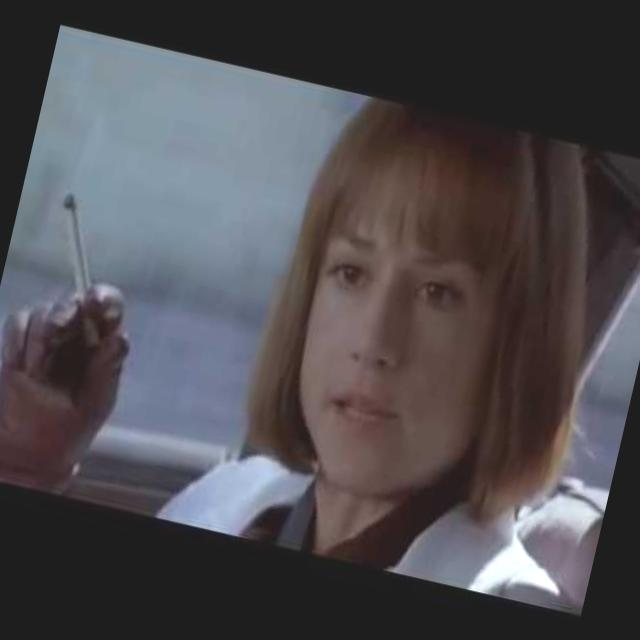cigarette: (17, 172, 136, 350)
